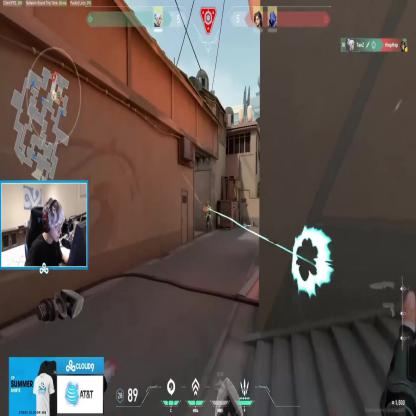enemy: (206, 202, 211, 230)
enemy_head: (207, 202, 210, 206)
